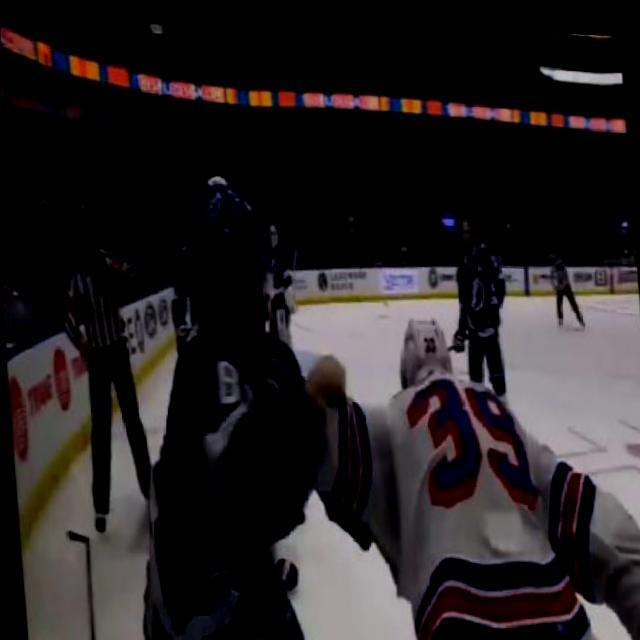fight: (127, 158, 420, 640), (278, 283, 640, 640)
